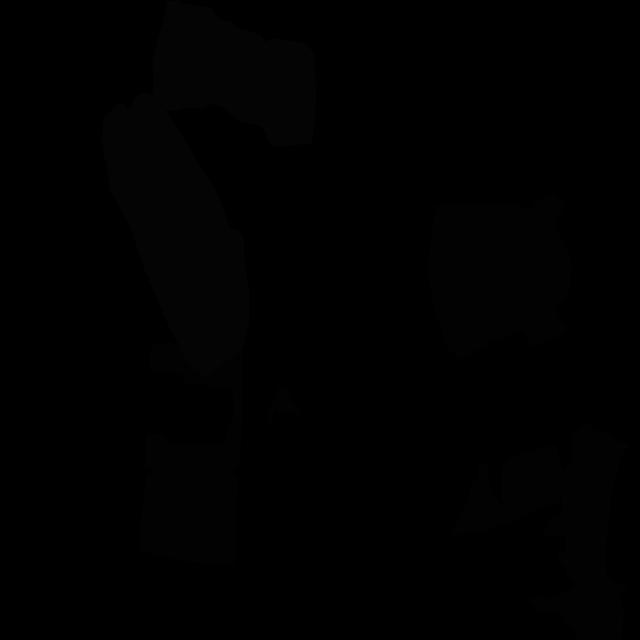cardboard: (447, 422, 630, 640), (427, 193, 572, 360), (139, 342, 242, 566), (266, 387, 302, 426)
soft_plastic: (102, 92, 250, 378), (152, 0, 316, 147)
